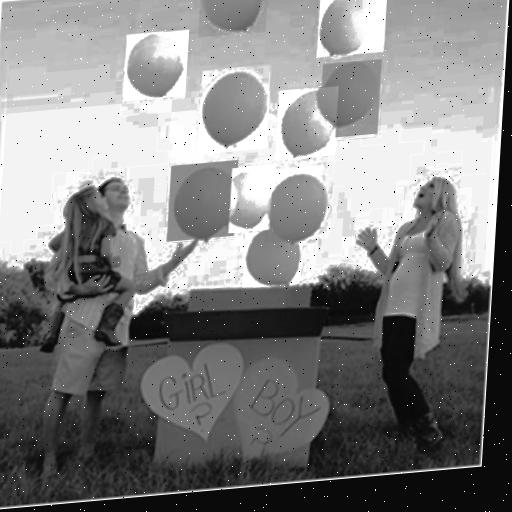balloon: (197, 64, 272, 155), (167, 160, 238, 241), (319, 59, 382, 139), (123, 29, 190, 101), (275, 86, 339, 160), (265, 165, 323, 243), (316, 0, 388, 58), (242, 228, 302, 294), (228, 164, 274, 234), (198, 0, 268, 37)
